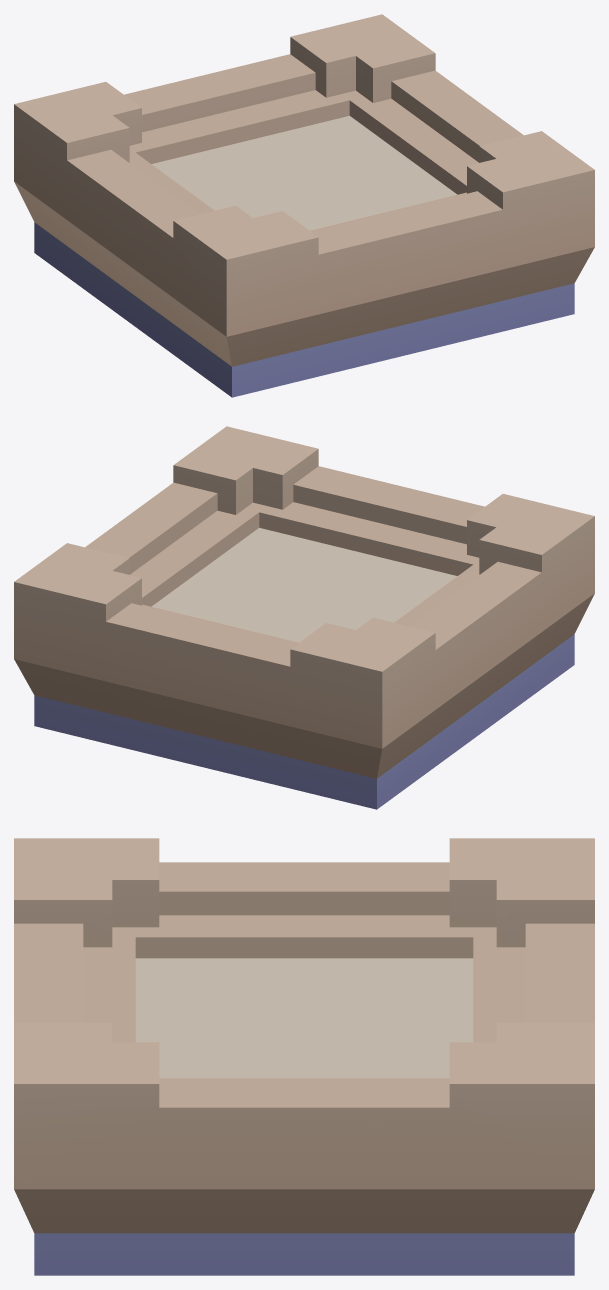
Rendered from tower-square-top-color.glb.
3 views of the same model, one above another, from view 1: azimuth 30°, elevation 25°; view 2: azimuth 150°, elevation 25°; view 3: azimuth 270°, elevation 25° (orthographic). The views are drawn at different scales.
Parts seen in each view (by area): view 1: tower-square-top-color; view 2: tower-square-top-color; view 3: tower-square-top-color.
Part boxes in pixels (x1=…): tower-square-top-color: x1=14, y1=14, x2=594, y2=397; tower-square-top-color: x1=14, y1=426, x2=594, y2=809; tower-square-top-color: x1=14, y1=838, x2=594, y2=1275.
Bounding box in the file's own units: 1 × 0.38 × 1.
